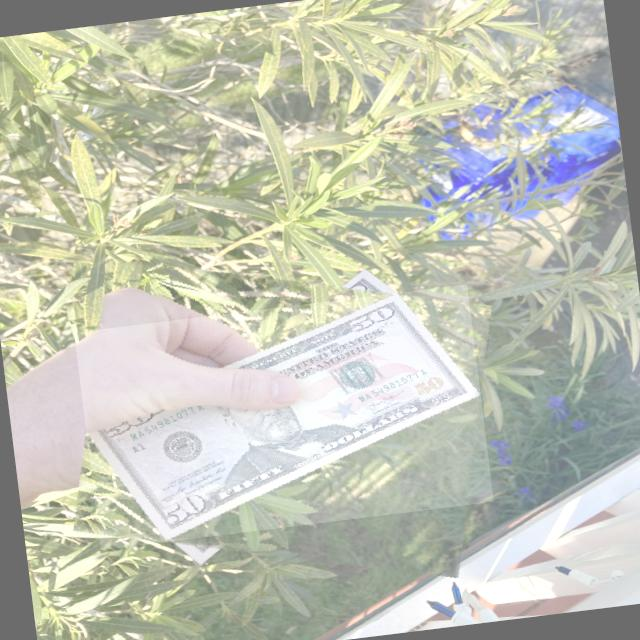fifty: (86, 271, 480, 552)
